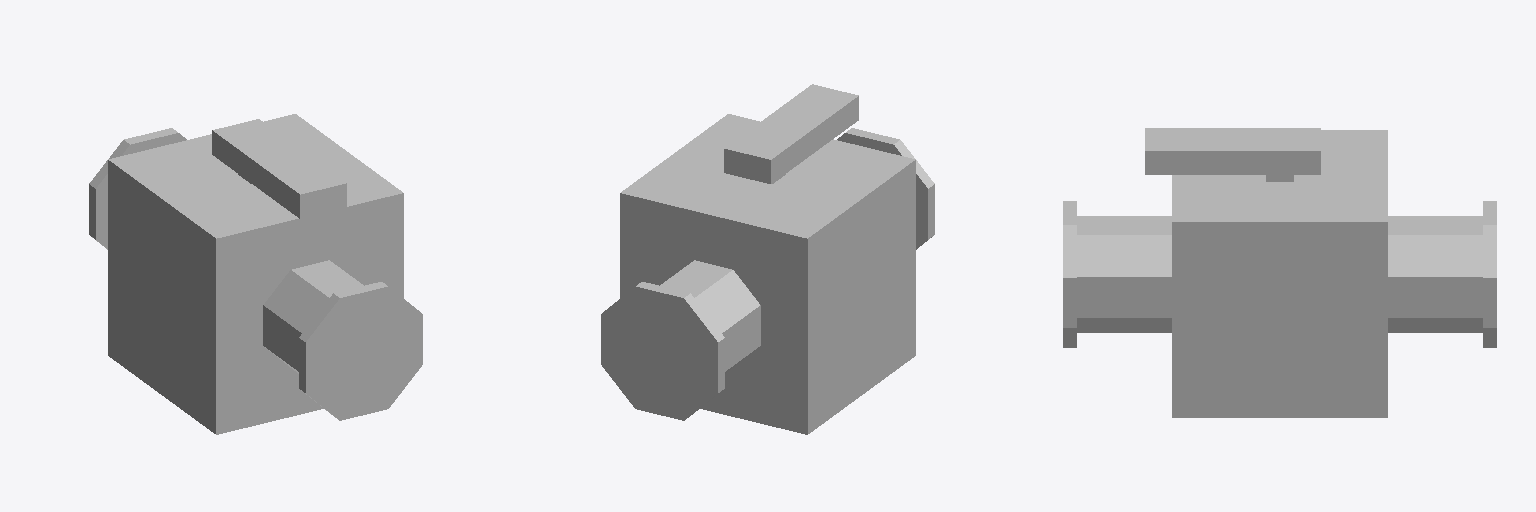
The model's file is pipeworks_valve_on_lowpoly.obj.
3 renders of one model, left to right at view 1: azimuth 30°, elevation 25°; view 2: azimuth 150°, elevation 25°; view 3: azimuth 270°, elevation 25°, orthographic.
Parts seen in each view (by area): view 1: Cube.003_Cube.003_None; view 2: Cube.003_Cube.003_None; view 3: Cube.003_Cube.003_None.
Part boxes in pixels (bbox=[...]): Cube.003_Cube.003_None: bbox=[89, 114, 422, 434]; Cube.003_Cube.003_None: bbox=[601, 84, 934, 434]; Cube.003_Cube.003_None: bbox=[1063, 128, 1496, 417].
Bounding box in the file's own units: 0.5 × 0.5938 × 1.